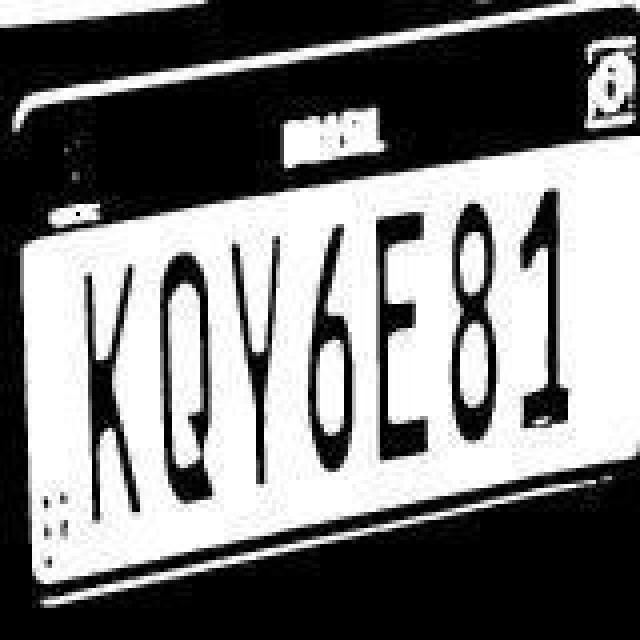1: (516, 176, 572, 424)
6: (292, 216, 356, 472)
8: (436, 196, 500, 444)
E: (352, 202, 432, 462)
K: (86, 256, 146, 528)
Q: (158, 248, 226, 512)
Y: (226, 222, 286, 498)
